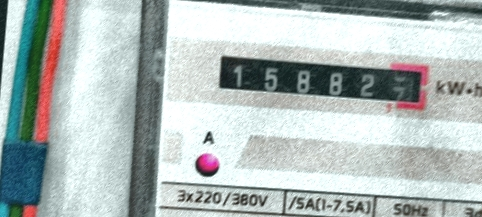1: (231, 59, 247, 89)
2: (358, 71, 377, 98)
5: (262, 63, 281, 95)
7: (391, 83, 405, 101)
8: (294, 66, 312, 95), (327, 68, 345, 97)
screen: (206, 38, 437, 118)
